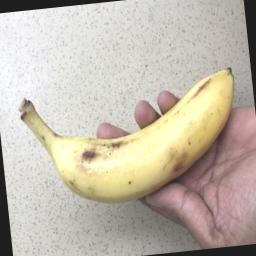Banana Ripe: (11, 69, 256, 226)
